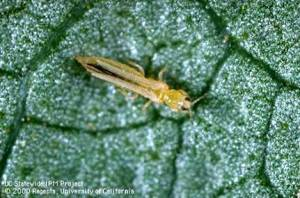Thrips: (70, 48, 216, 128)
